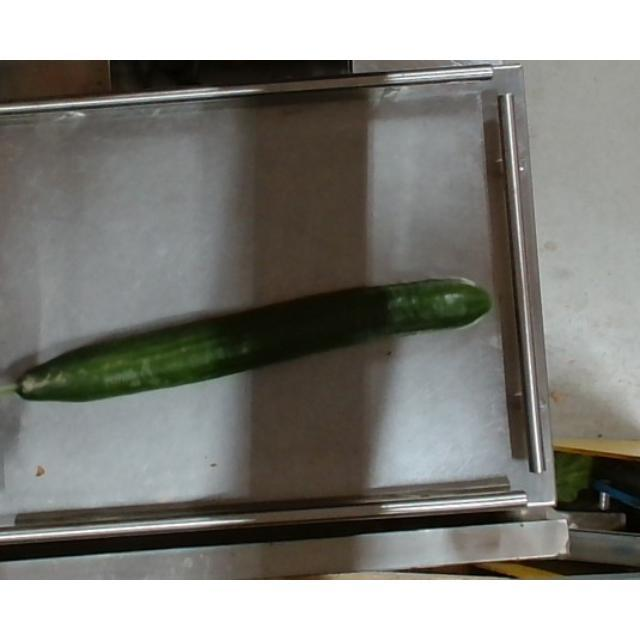cucumber: (0, 277, 492, 403)
